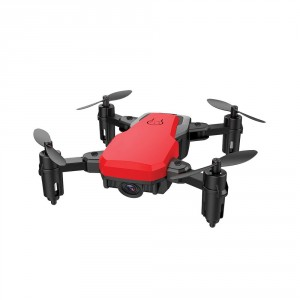drone: (29, 87, 267, 230)
